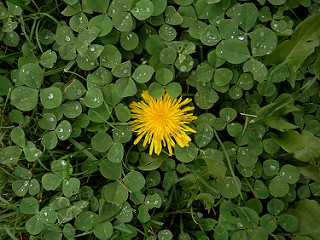clover: (214, 25, 278, 83), (10, 63, 63, 112), (99, 159, 146, 205), (76, 44, 122, 85), (111, 59, 154, 98), (41, 158, 82, 198), (90, 124, 132, 163), (2, 126, 44, 164), (194, 48, 234, 87), (259, 197, 300, 235), (262, 157, 300, 197), (19, 196, 57, 235), (36, 112, 73, 150), (111, 1, 154, 32), (209, 107, 244, 139), (147, 68, 182, 99)
dandelion yellow: (127, 87, 198, 157)
